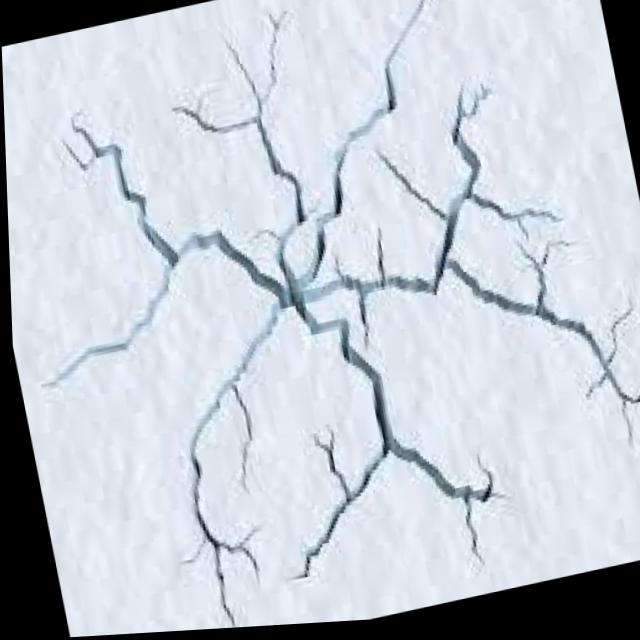Crack: (111, 49, 542, 576)
